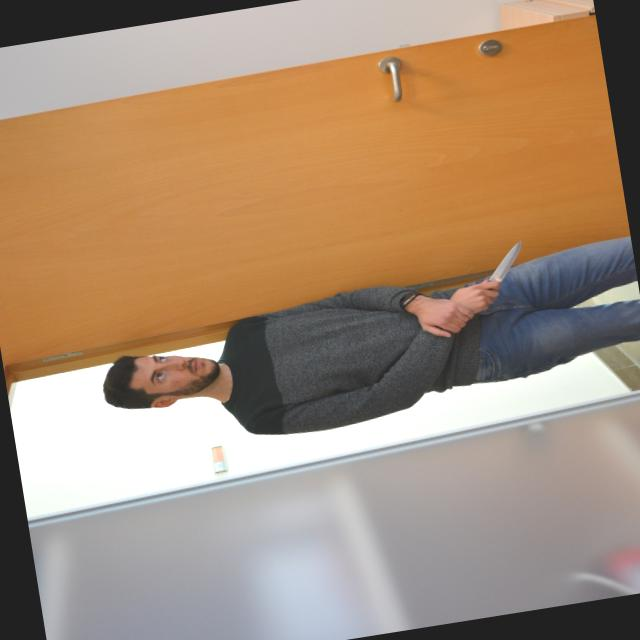knife: (471, 235, 536, 298)
